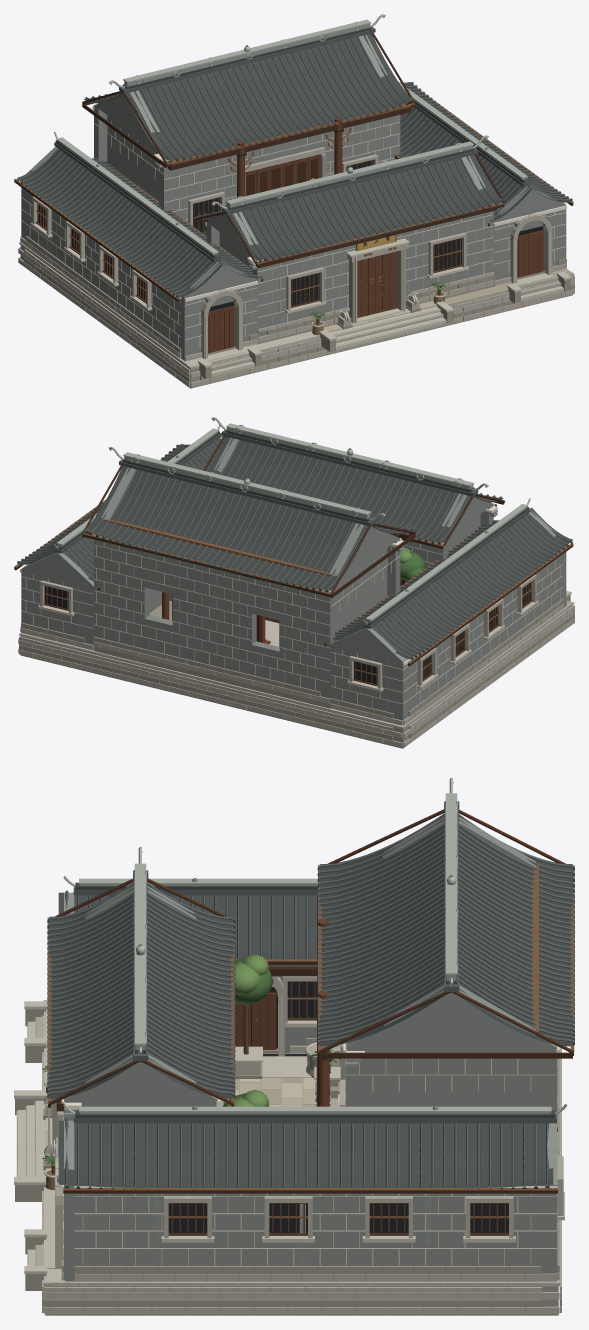
3 renders of one model, top to bottom at view 1: azimuth 30°, elevation 25°; view 2: azimuth 150°, elevation 25°; view 3: azimuth 270°, elevation 25°, orthographic. The views are drawn at different scales.
Size of the model in its own units: 1 by 0.4795 by 0.8128.
